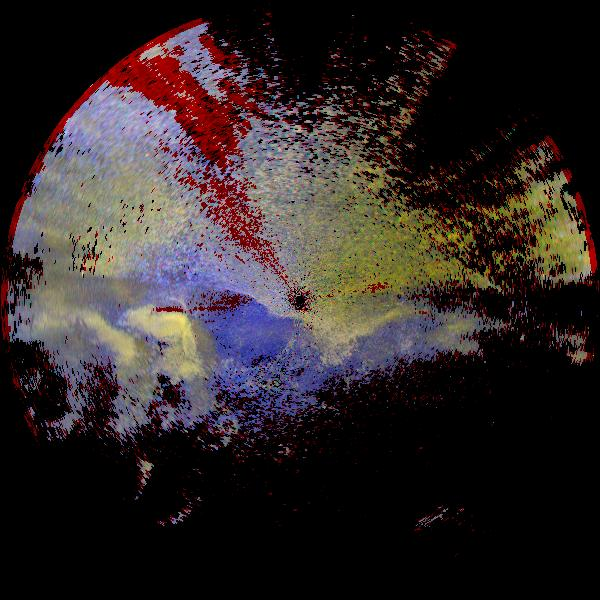roost: (76, 273, 232, 429), (378, 480, 504, 600)
